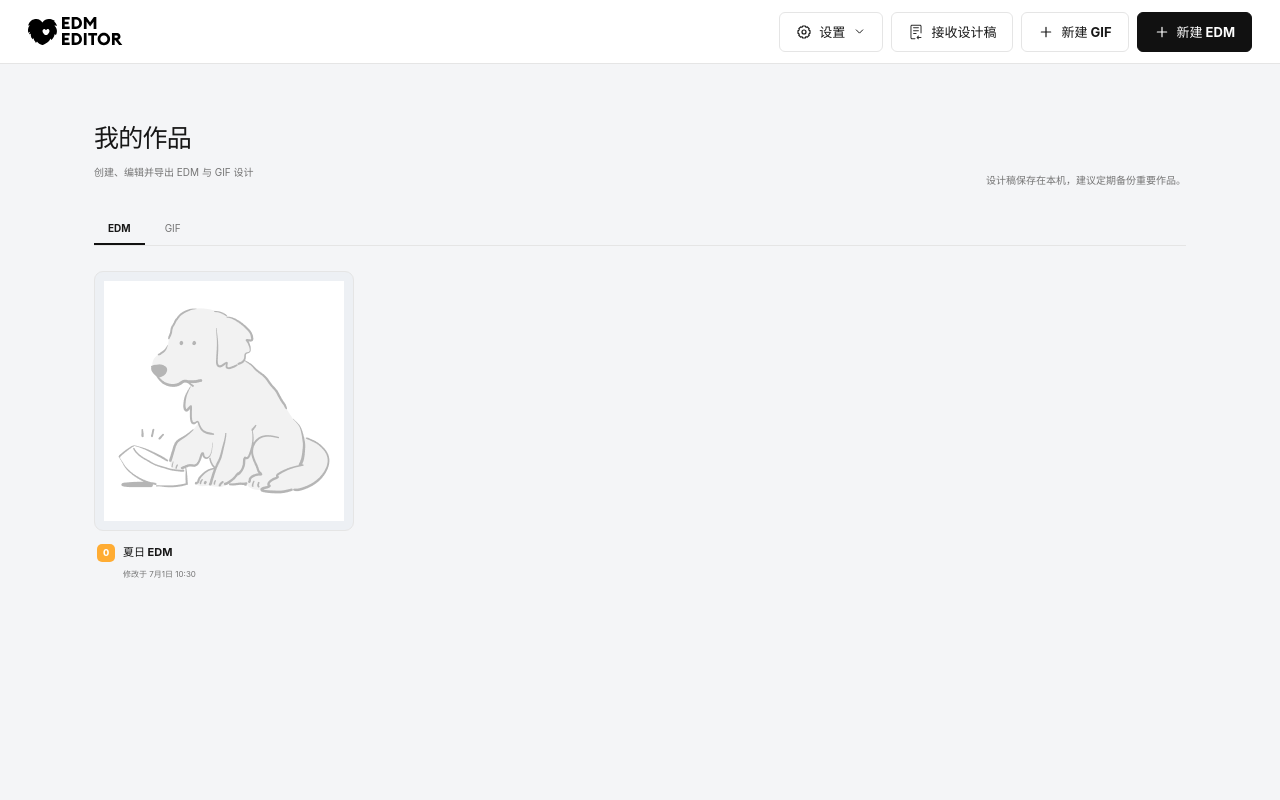
Scenario: EDM 和 GIF 作品分别展示在对应分类中
Expected: the button named "打开 夏日 EDM" is shown, [94, 271, 354, 530]
Click the button "GIF" at point(173, 229), box [151, 213, 195, 245]
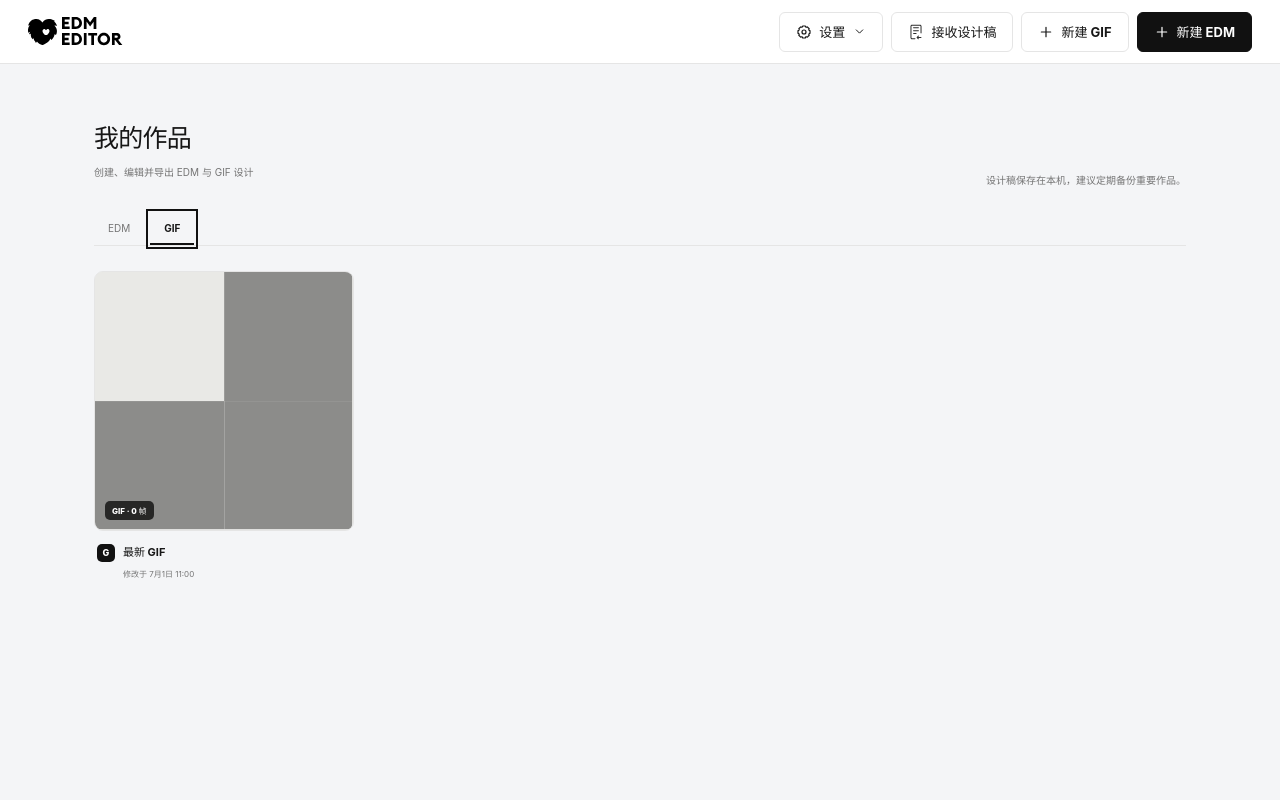
Expected: the button with aria-label "打开 最新 GIF" is shown, [94, 271, 354, 530]
